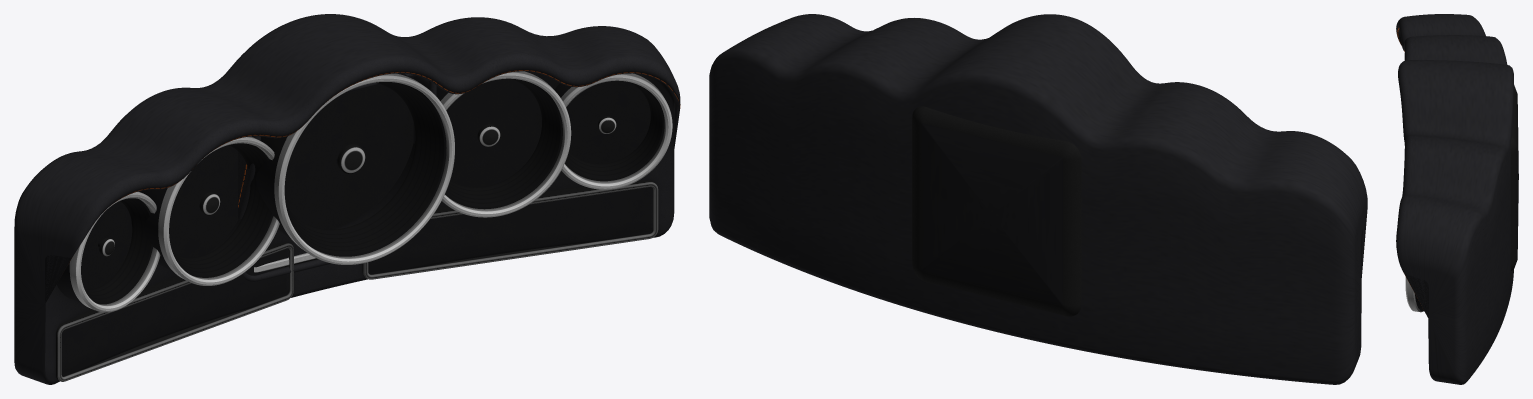
File: gauges_hd.glb
The picture shows the model from 3 angles, left to right: view 1: azimuth 30°, elevation 25°; view 2: azimuth 150°, elevation 25°; view 3: azimuth 270°, elevation 25°; orthographic projection. The views are drawn at different scales.
Parts seen in each view (by area): view 1: Binnacle, MapPod; view 2: Binnacle, MapPod; view 3: Binnacle, MapPod.
Part boxes in pixels (box(x1,y1,x2,y2)): Binnacle: box(14, 14, 680, 384); MapPod: box(238, 73, 436, 282); Binnacle: box(709, 14, 1367, 384); MapPod: box(912, 106, 1081, 316); Binnacle: box(1396, 14, 1513, 384); MapPod: box(1510, 85, 1518, 270).
Size of the model in its own units: 0.9529 by 0.3749 by 0.2061.
Materials: 1 (1 with a texture image).
